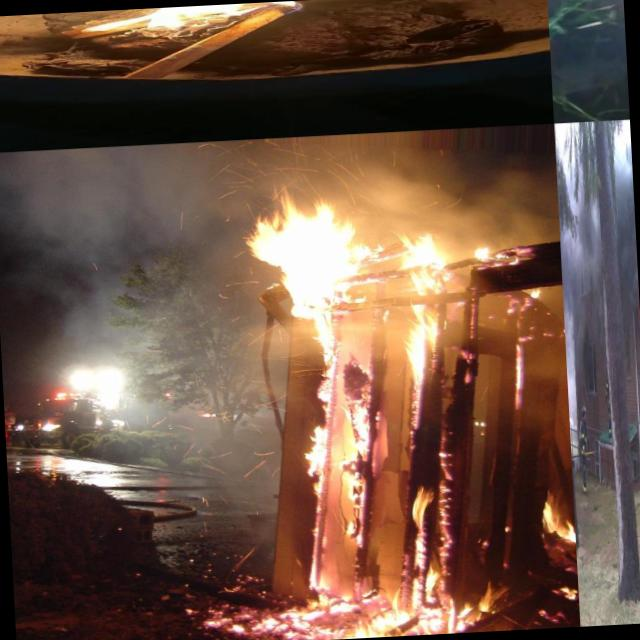fire: (299, 318, 459, 600), (244, 195, 468, 329), (177, 587, 507, 640), (64, 0, 360, 45), (468, 239, 543, 320), (538, 486, 577, 554), (536, 580, 580, 627), (508, 339, 532, 424), (634, 295, 640, 396)
smoke: (0, 274, 303, 430), (0, 140, 246, 290), (137, 416, 306, 524), (241, 134, 444, 207), (442, 151, 560, 244), (558, 200, 608, 367), (614, 167, 640, 305)
